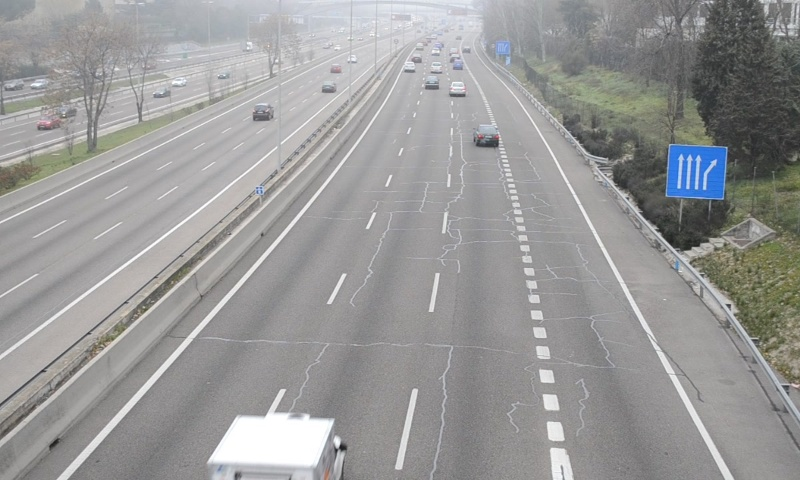car: (473, 123, 499, 147)
